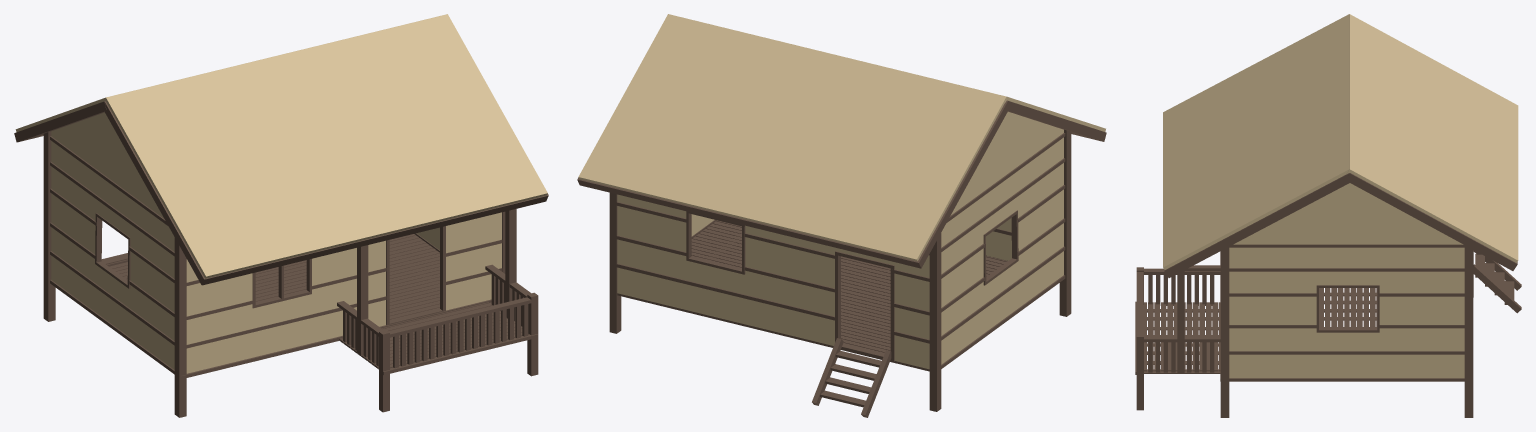
3 renders of one model, left to right at view 1: azimuth 30°, elevation 25°; view 2: azimuth 150°, elevation 25°; view 3: azimuth 270°, elevation 25°, orthographic. The views are drawn at different scales.
Parts seen in each view (by area): view 1: 1; view 2: 1; view 3: 1.
Part boxes in pixels (x1,y1,x2,y2): 1: [14, 14, 548, 417]; 1: [577, 14, 1106, 417]; 1: [1135, 14, 1521, 417].
Bounding box in the file's own units: 28.78 × 21.59 × 30.01.
Materials: 2 (2 with a texture image).
